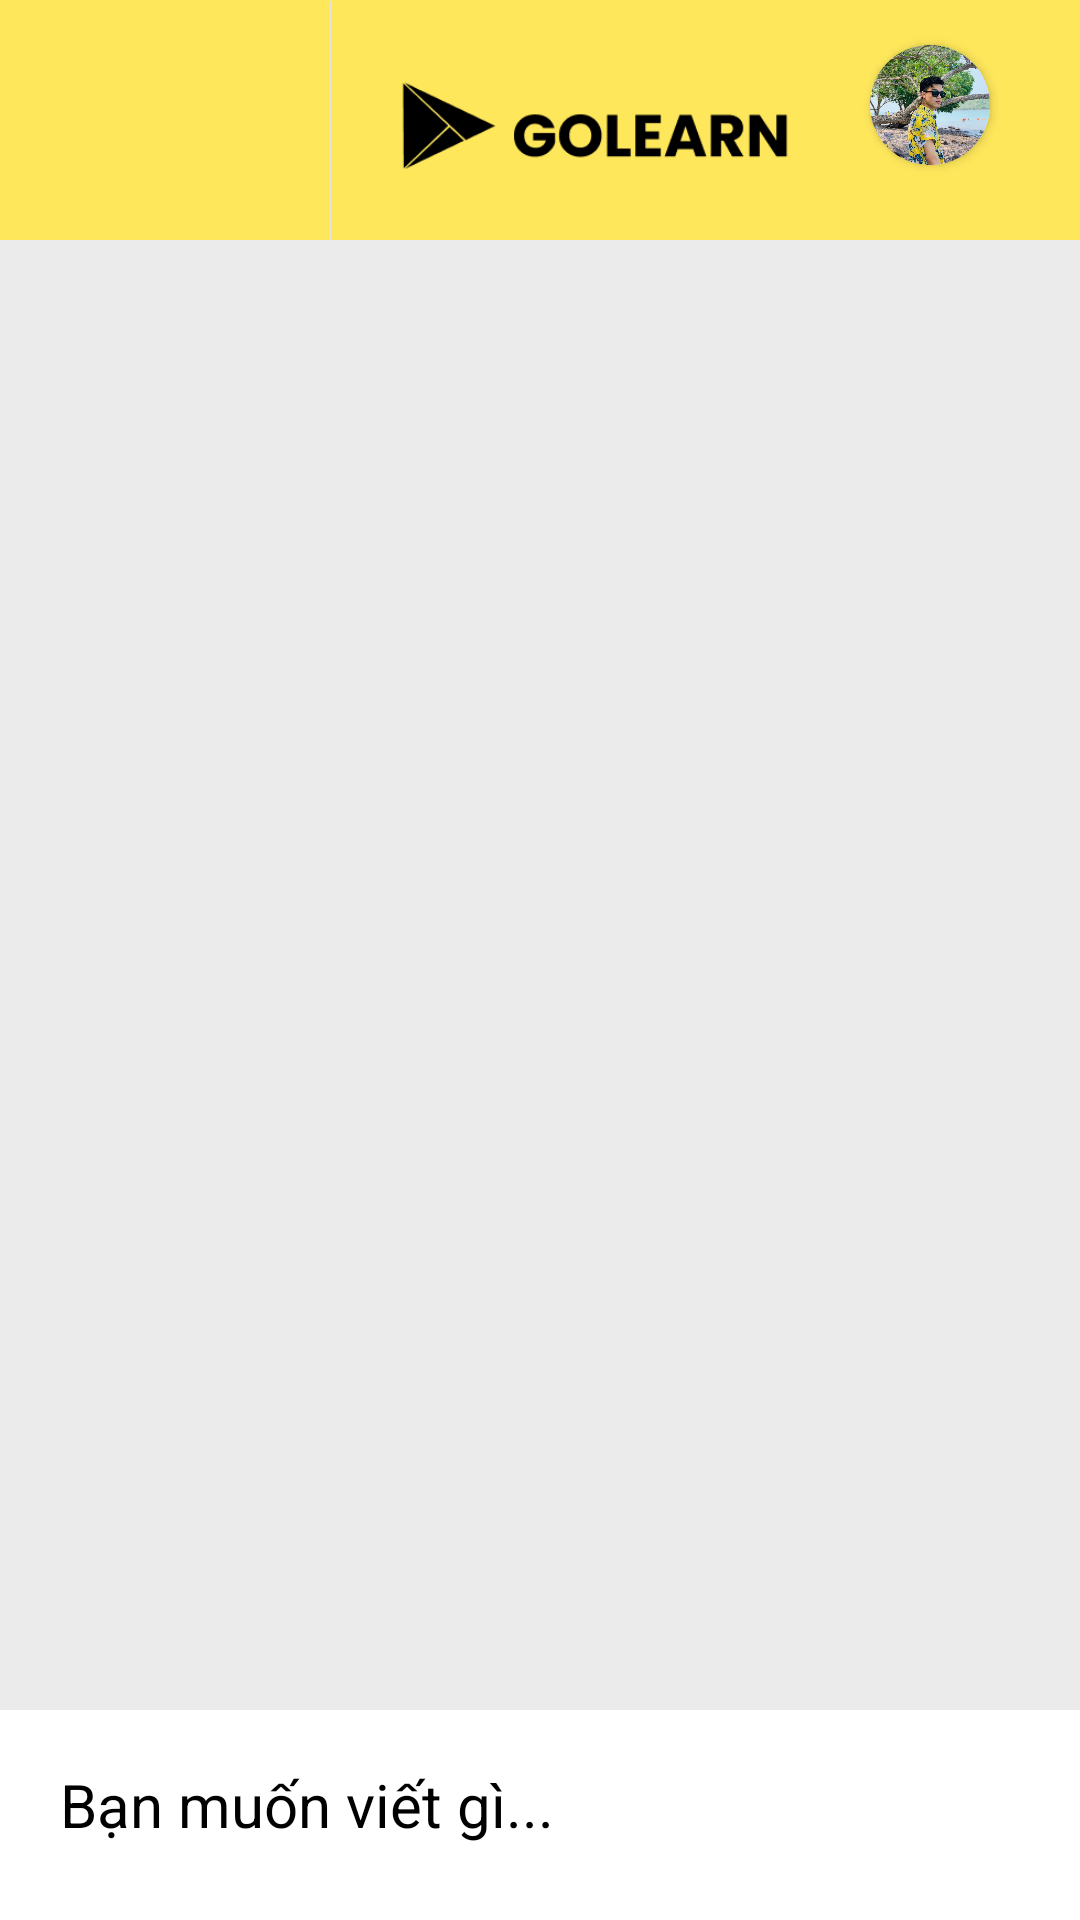

Point at icon controls on the screen. Image size 1080*1920, points as [x,y].
avt: [930,105]
